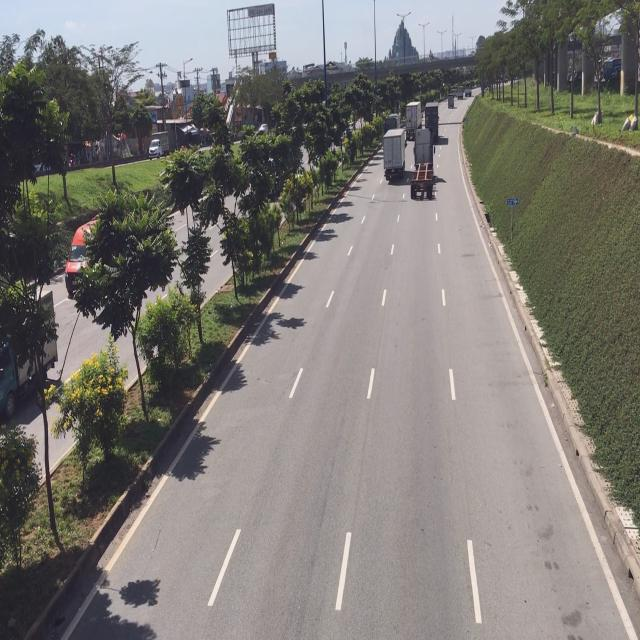truck: (413, 128, 437, 198), (382, 128, 403, 185)
